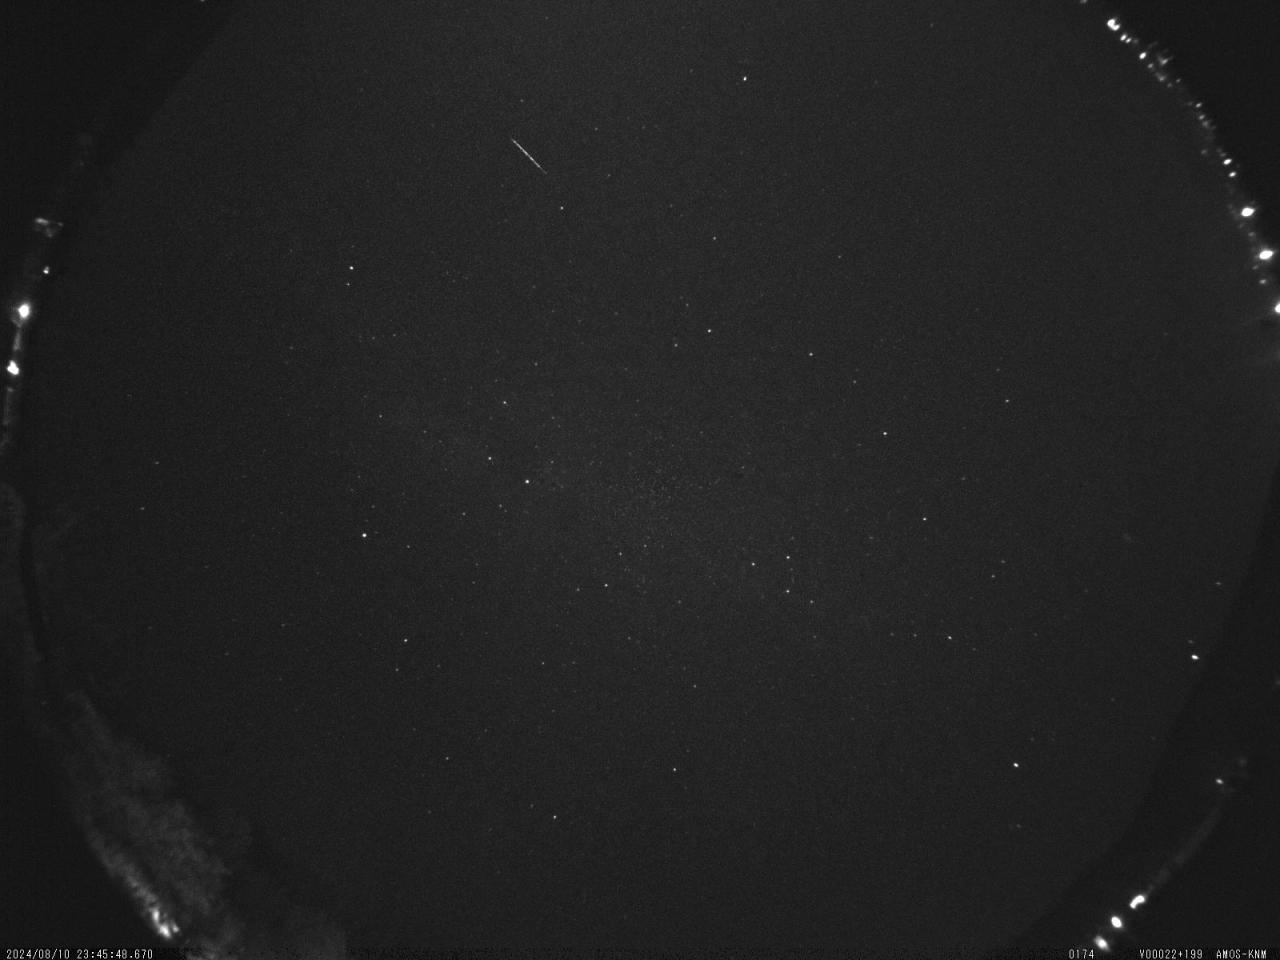Meteor: (509, 135, 547, 175)
